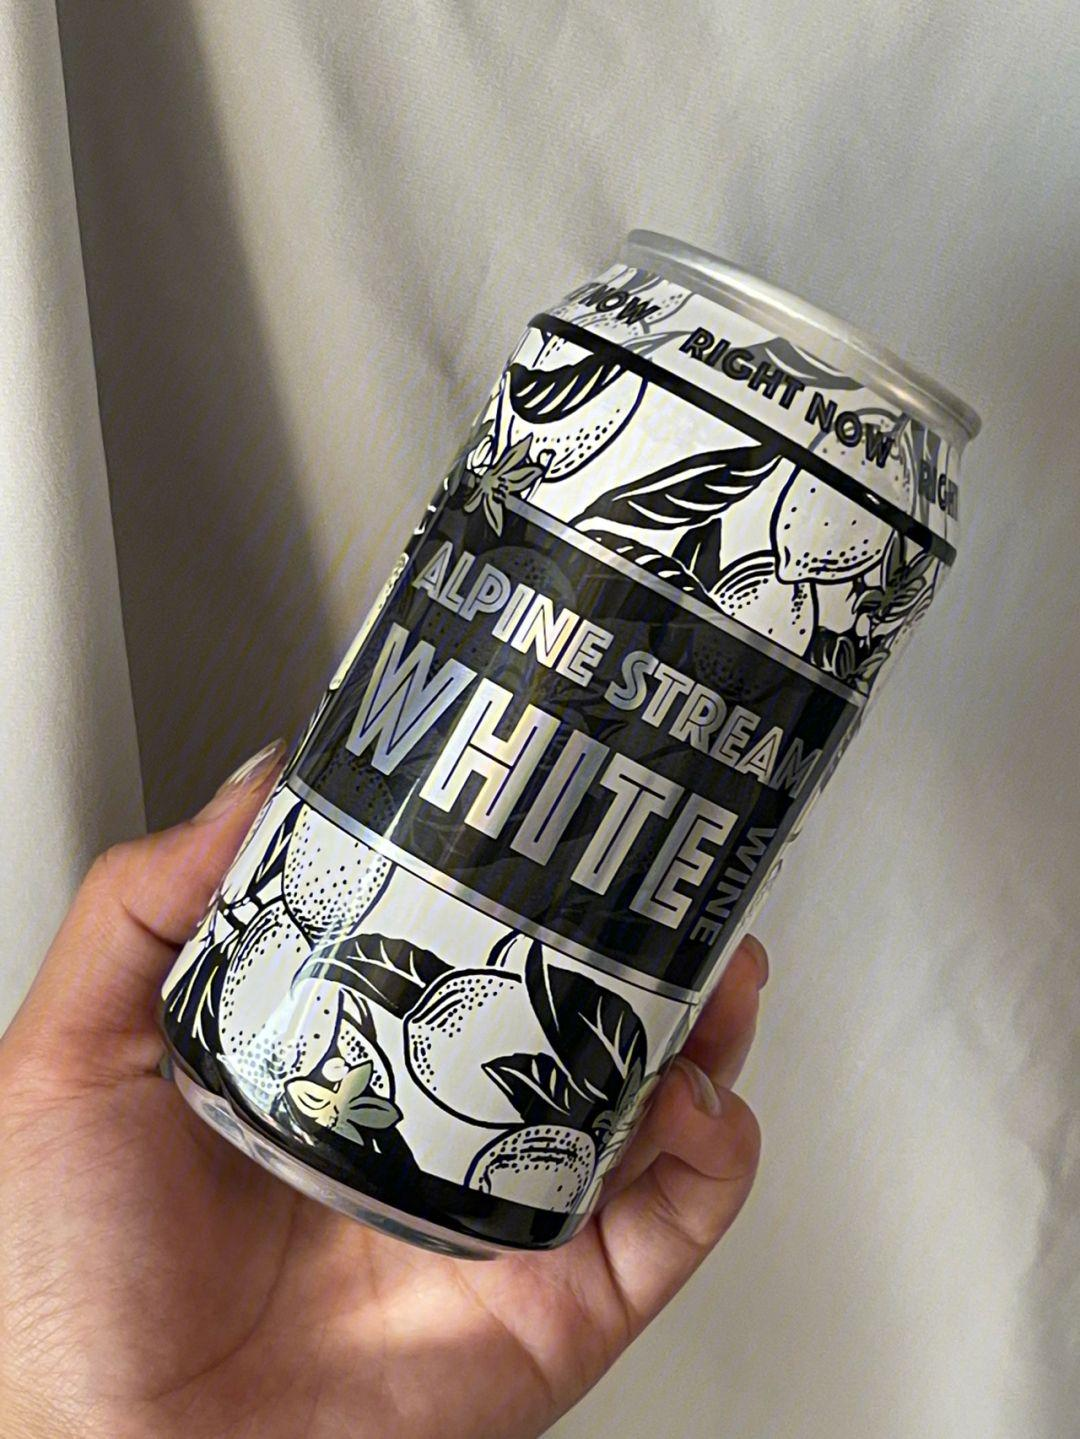metal: (164, 232, 979, 1284)
